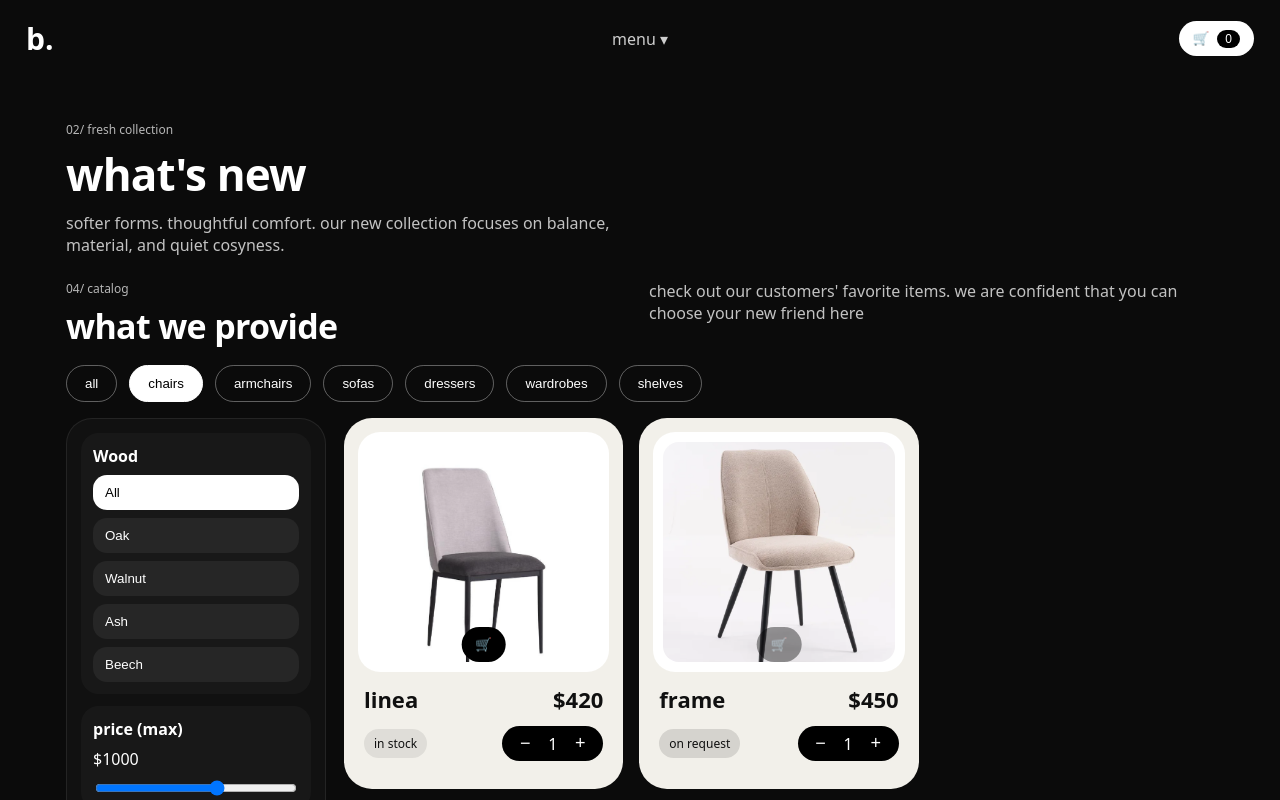
Category filter updates visible products (integration)
Check: the text "linea" is shown, box 364,684 -> 418,714
Check: the text "frame" is shown, box 659,684 -> 725,714
Note: switch to armchairs
Click the button "armchairs" at (263, 384), box 215,365 -> 311,402
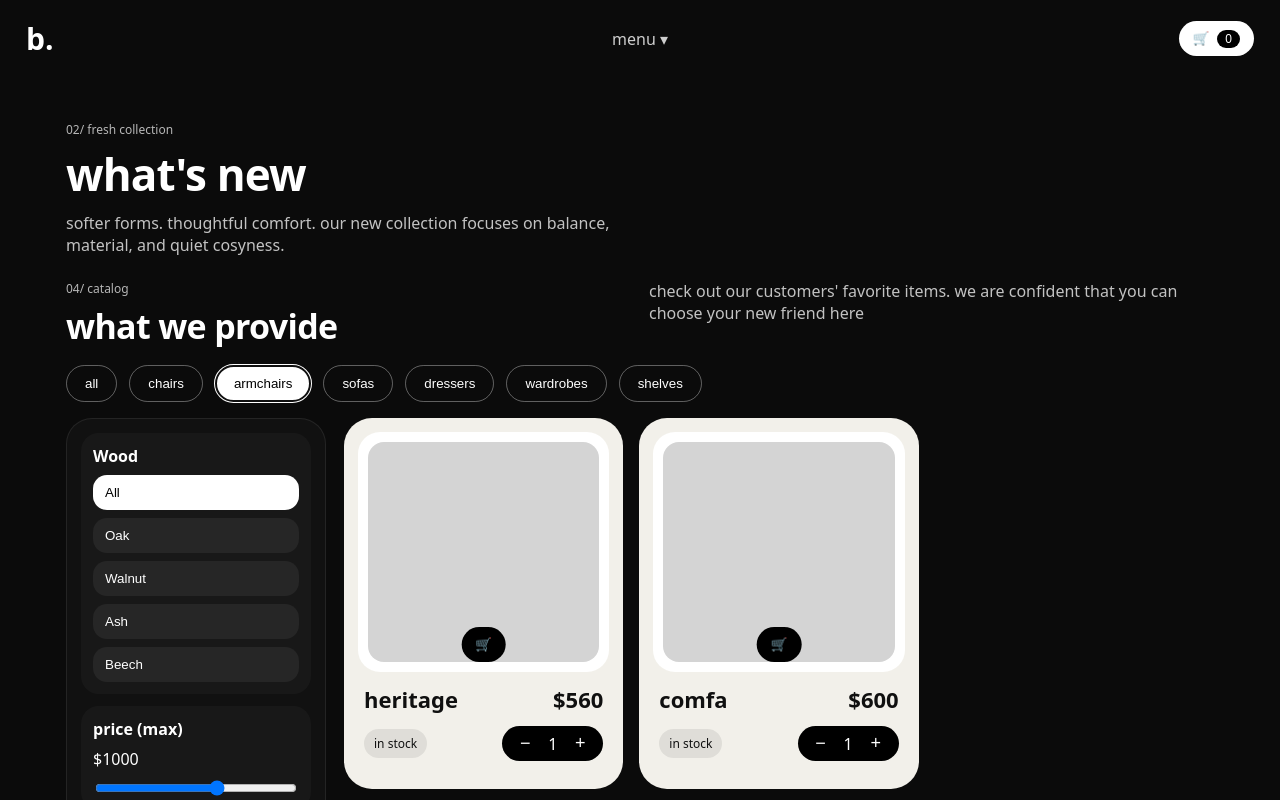
Check: the text "heritage" is shown, box 364,684 -> 458,714
Check: the text "comfa" is shown, box 659,684 -> 728,714
Check: the text "linea" is gone
